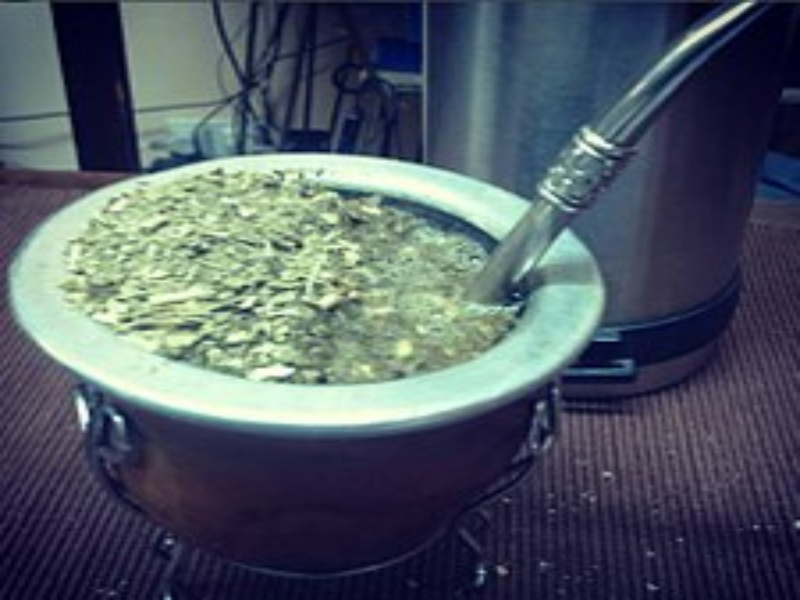guampa: (11, 18, 608, 576)
